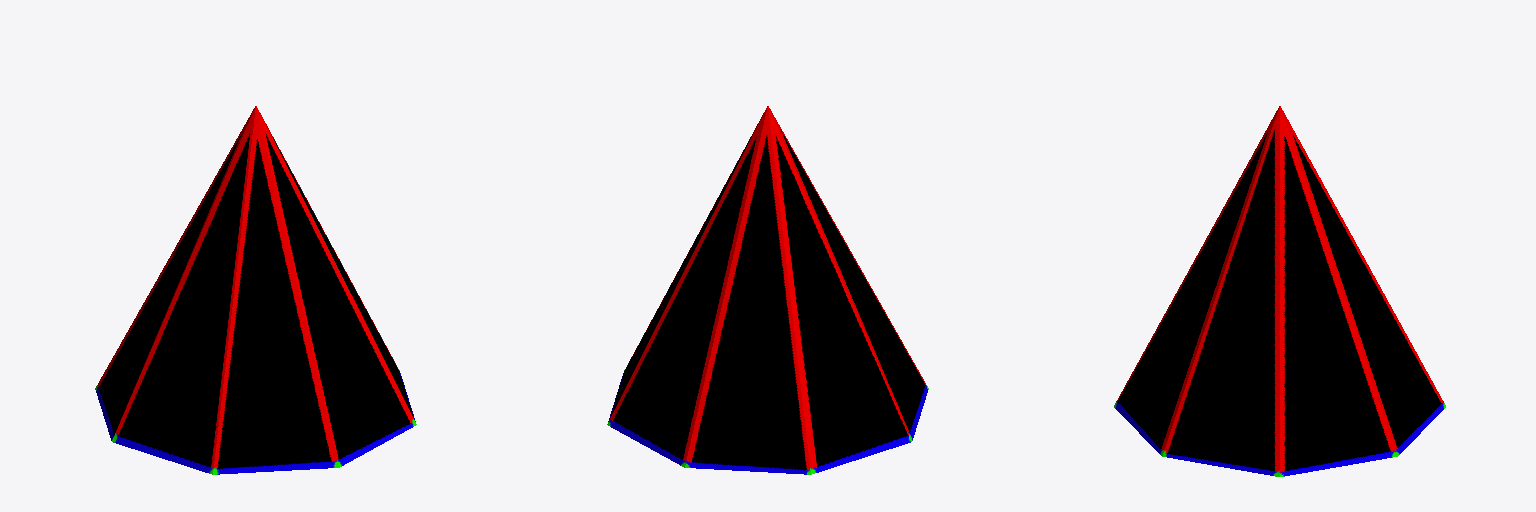
3 renders of one model, left to right at view 1: azimuth 30°, elevation 25°; view 2: azimuth 150°, elevation 25°; view 3: azimuth 270°, elevation 25°, orthographic.
Parts seen in each view (by area): view 1: reflektor; view 2: reflektor; view 3: reflektor.
Boxes of the visible parts, <box> form: reflektor: <box>95,106,416,474</box>; reflektor: <box>607,106,928,474</box>; reflektor: <box>1114,106,1445,476</box>.
Bounding box in the file's own units: 100 × 100 × 100.
Materials: 1 (1 with a texture image).